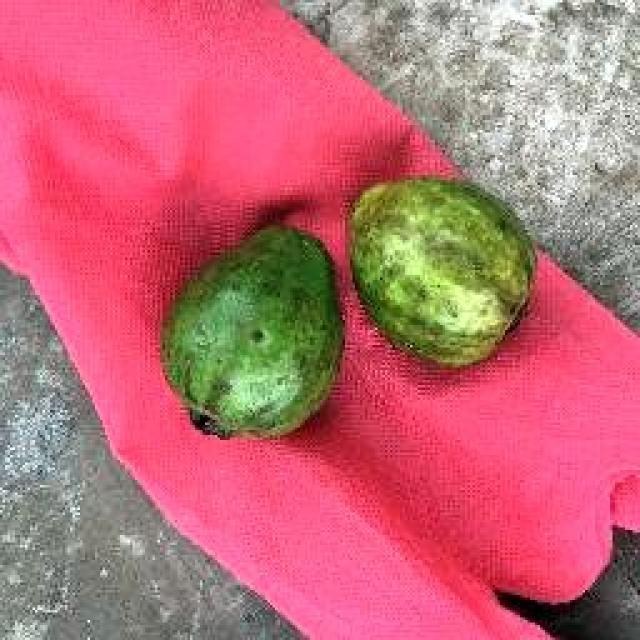Good_Guava: (160, 222, 345, 440)
